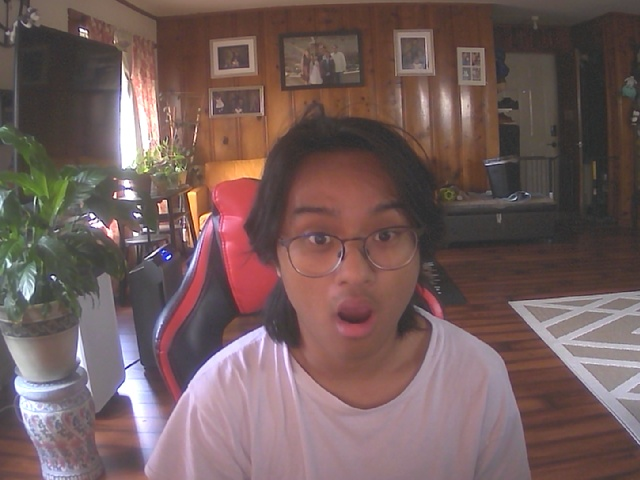fear: (270, 119, 433, 365)
